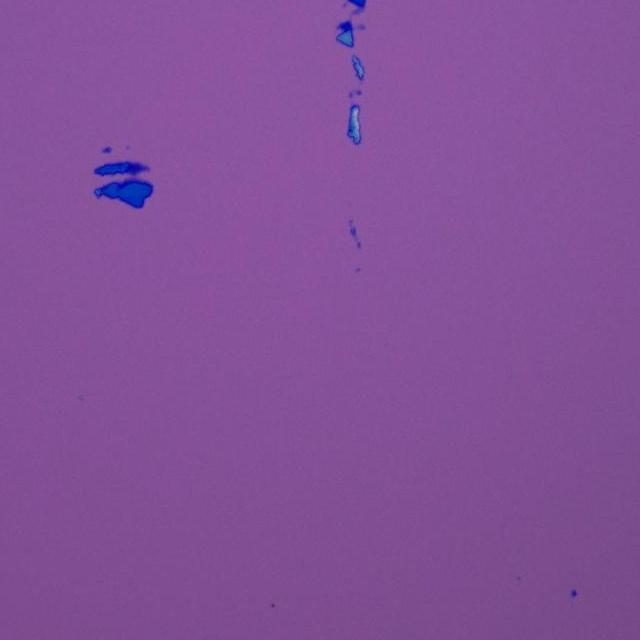monolayer-eWW4: (352, 7, 363, 15), (356, 24, 366, 31)
